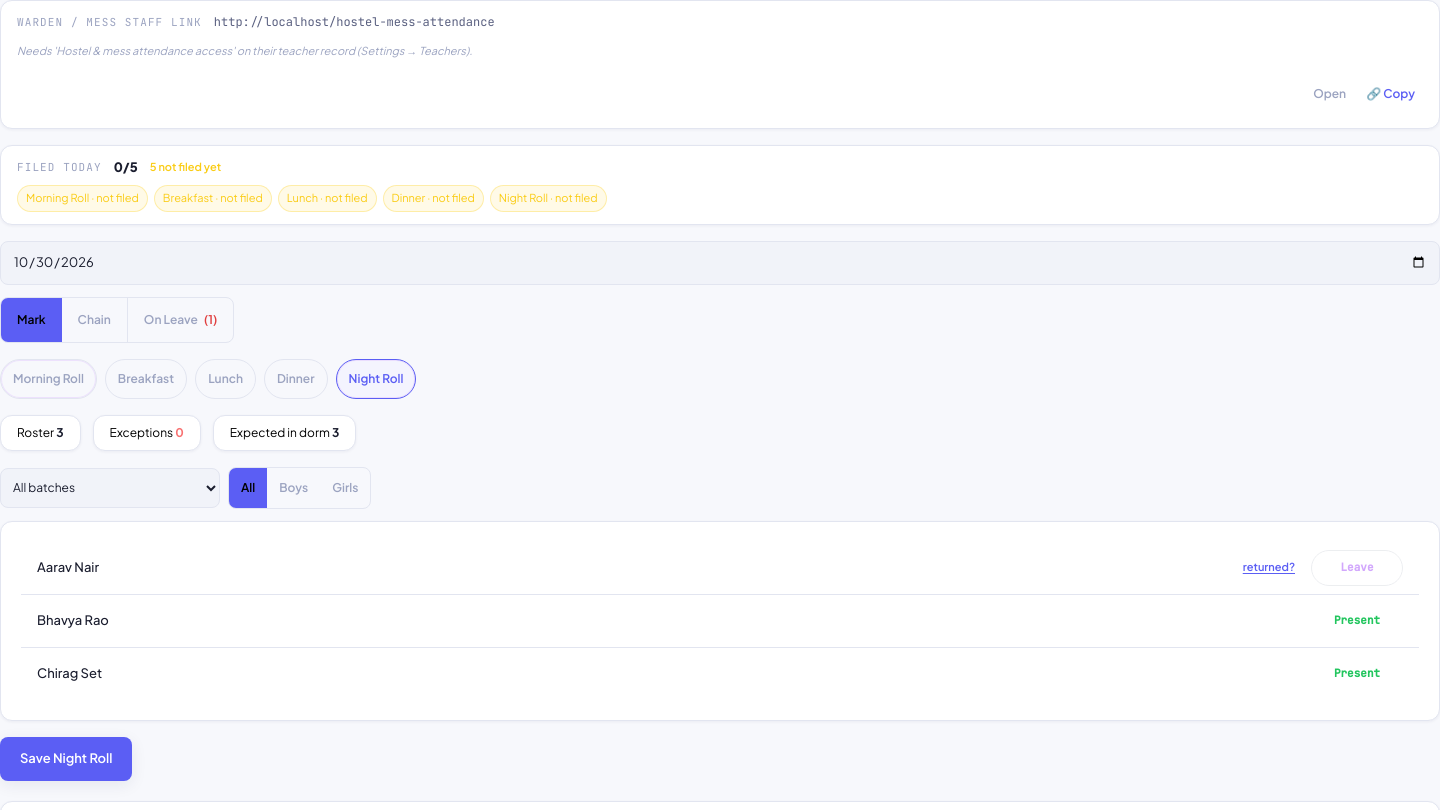
Scenario: HostelTab — on-leave panel › excludes already-on-leave boarders from the put-on-leave picker
Expected: the button "Aarav Nair" is shown, [37, 558, 99, 577]
Click the button "On Leave (1)" at (180, 320), box [127, 298, 233, 342]
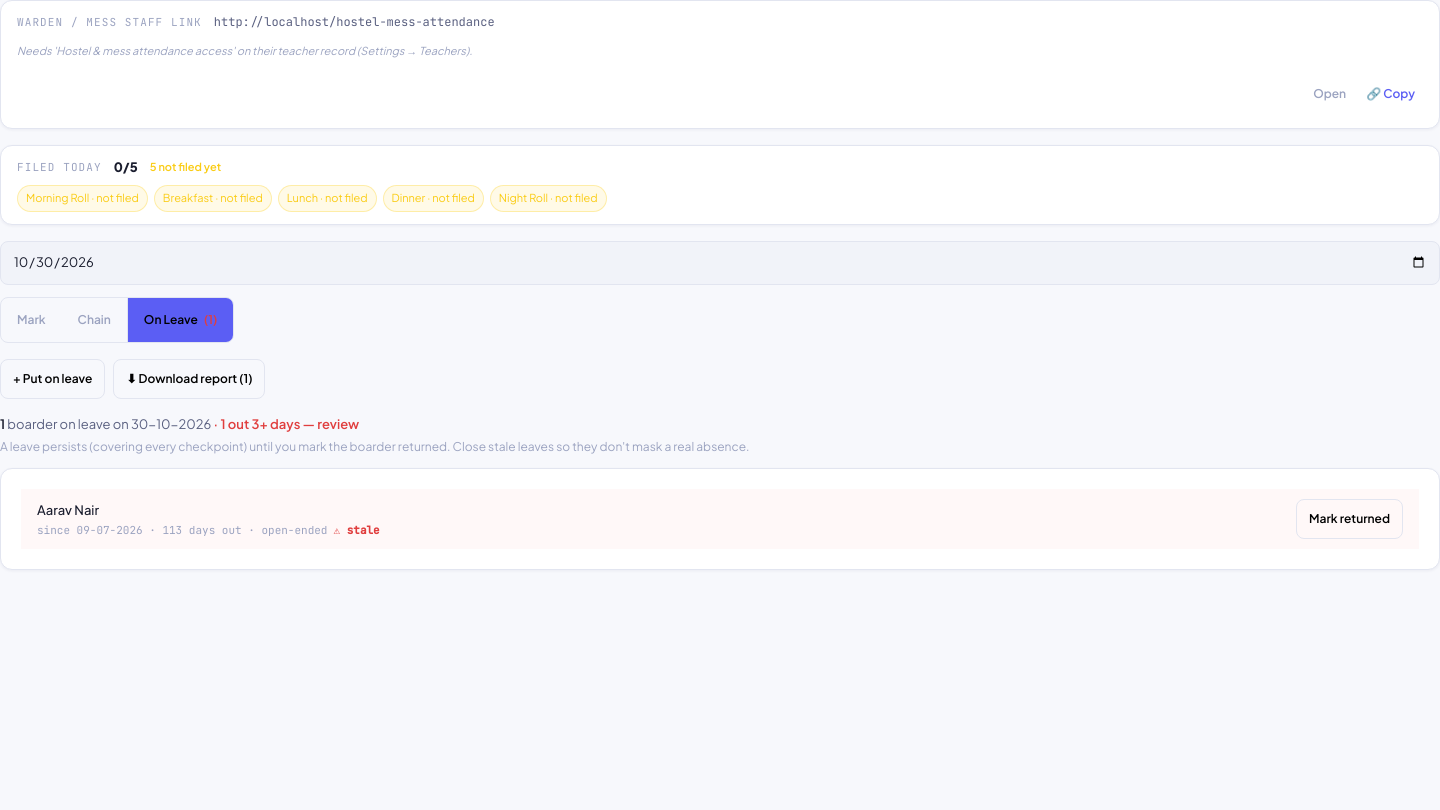
Click the button with aria-label "Put students on leave" at (53, 378), box [0, 358, 105, 398]
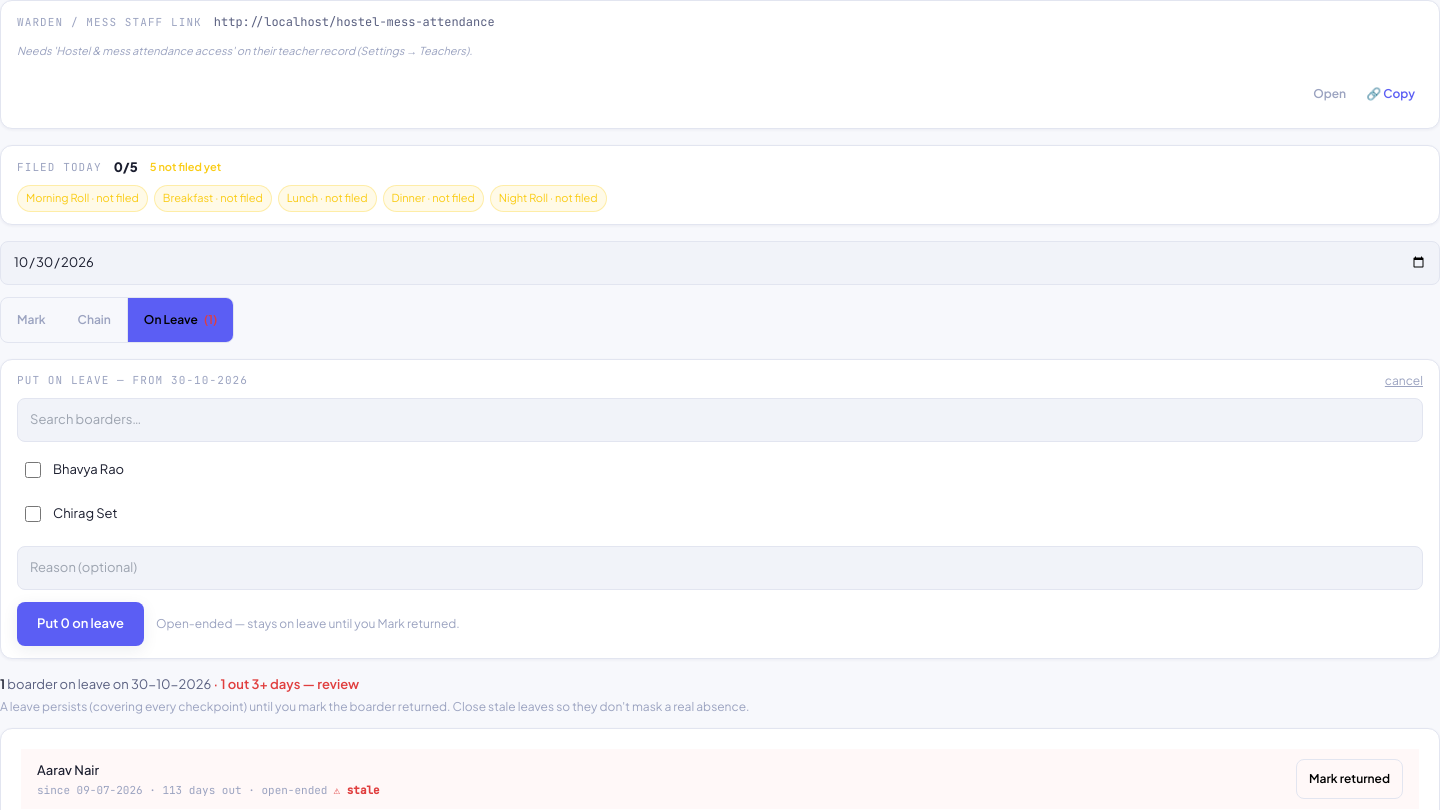
Expected: the checkbox labelled "Bhavya Rao" is shown, [25, 462, 41, 478]
